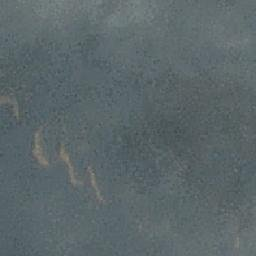debris: (58, 144, 79, 184), (88, 166, 106, 203), (31, 128, 46, 168), (5, 89, 18, 124)
